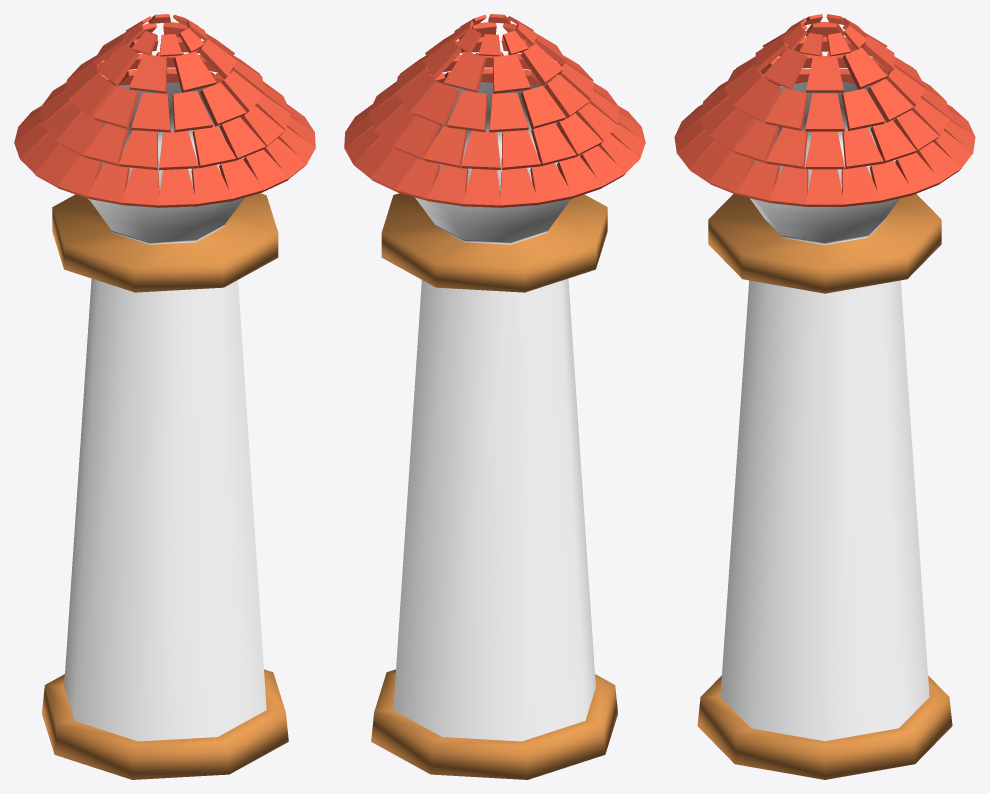
File: Tower2.fbx
3 views of the same model, side by side, from view 1: azimuth 30°, elevation 25°; view 2: azimuth 150°, elevation 25°; view 3: azimuth 270°, elevation 25° (orthographic).
Visible parts, largest first — view 1: Tower2; view 2: Tower2; view 3: Tower2.
Part boxes in pixels (left/top/right/bottom): Tower2: left=14, top=14, right=315, bottom=779; Tower2: left=344, top=14, right=645, bottom=779; Tower2: left=674, top=14, right=975, bottom=779.
Size of the model in its own units: 1102 by 2836 by 1104.
